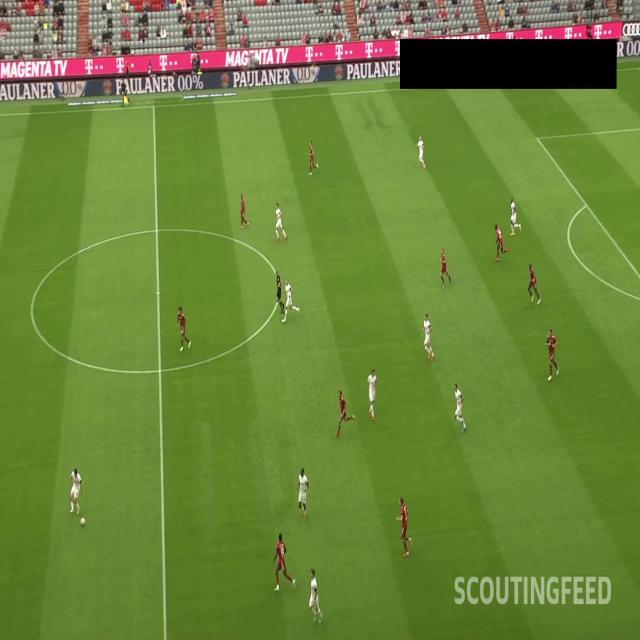ball: (78, 514, 86, 527)
player: (272, 529, 298, 594), (333, 382, 357, 438), (394, 496, 414, 558), (306, 564, 325, 626), (544, 325, 561, 384), (450, 380, 468, 433), (174, 300, 192, 352), (295, 465, 311, 519), (282, 277, 300, 324), (68, 462, 83, 517), (366, 366, 380, 424), (272, 200, 290, 244), (492, 220, 510, 264), (526, 259, 542, 306), (507, 193, 522, 237), (422, 312, 435, 361), (238, 188, 250, 233), (440, 246, 452, 290), (308, 138, 320, 177), (416, 134, 427, 169)
referee: (271, 265, 285, 315), (120, 72, 132, 108)
